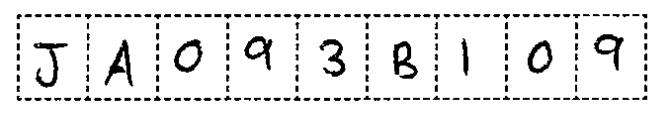0: (169, 34, 208, 75), (524, 38, 556, 78)
1: (449, 34, 480, 80)
3: (314, 33, 348, 83)
9: (589, 27, 629, 76), (239, 31, 279, 77)
A: (99, 36, 139, 94)
B: (384, 34, 424, 86)
J: (27, 36, 73, 93)
